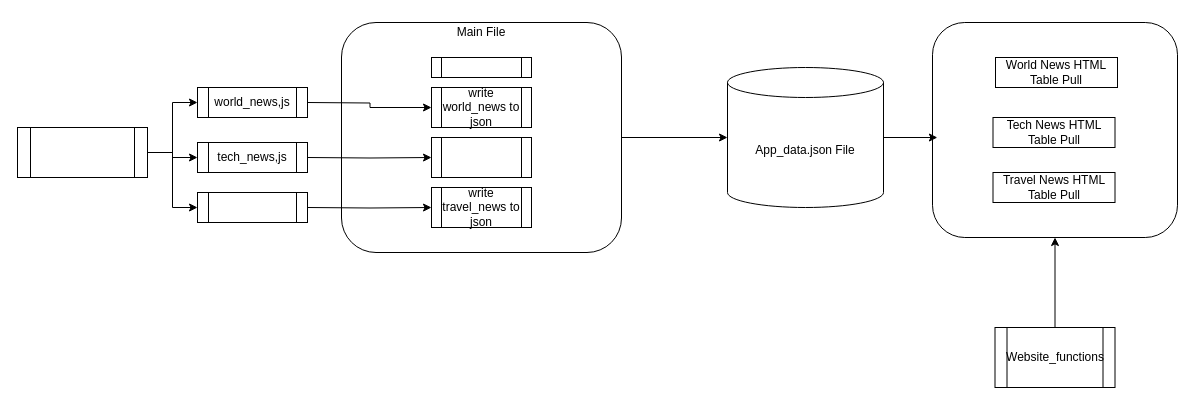
Some shapes in this 1195 by 405 pixel diagram are drawn without their labels. Each missing label, with the centre of its shape:
Api_run_functions: point (82, 152)
Clear json FIle: point (481, 67)
travel_news,js: point (252, 207)
write tech_news to json: point (481, 157)
